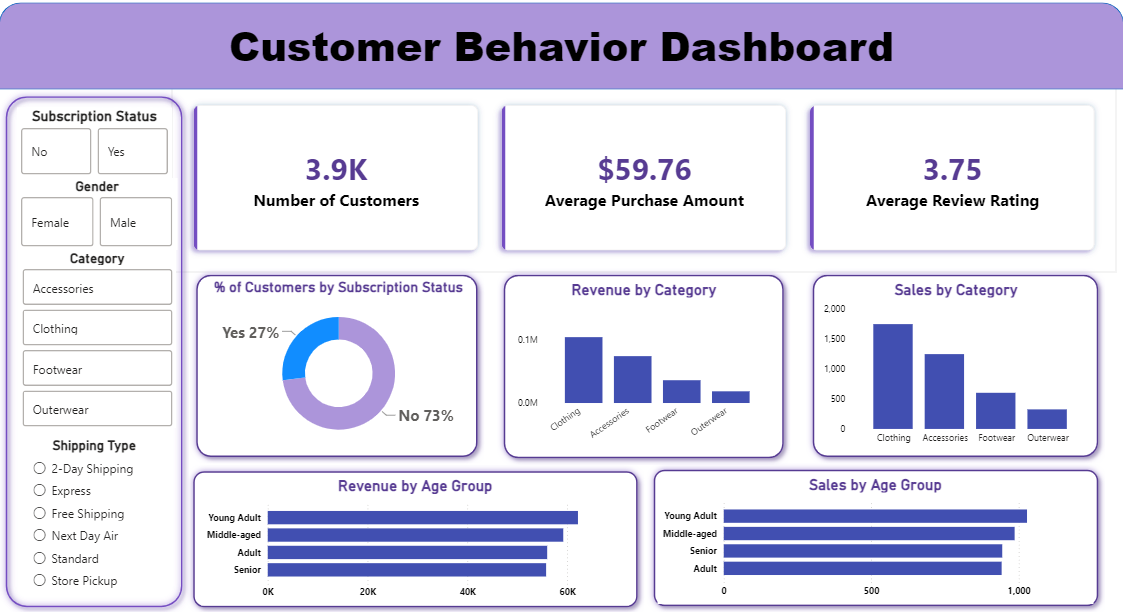

The page's visual inventory and layout, read from the dashboard file:
{"tool":"powerbi","page":{"name":"Page 1","canvas":[1500,820],"ordinal":0},"visuals":[{"type":"cardVisual","fields":{"Data":["public customer.Number of Customers","public customer.Average Purchase Amount","public customer.Average Review Rating"]},"box":[230.1,114.1,1259,251.8],"z":0},{"type":"shape","box":[0,5.4,1499.9,115.9],"z":1000},{"type":"textbox","box":[0,19.9,1499.9,101.4],"z":2000},{"type":"shape","box":[253.6,360.5,393.1,260.9],"z":3000},{"type":"donutChart","title":"% of Customers by Subscription Status","fields":{"Category":["public customer.subscription_status"],"Y":["CountNonNull(public customer.customer_id)"]},"box":[275.4,375,353.2,230.1],"z":4000},{"type":"shape","box":[664.8,360.5,391.3,262.7],"z":5000},{"type":"shape","box":[1076,360.5,398.5,260.9],"z":6000},{"type":"clusteredColumnChart","title":"Revenue by Category","fields":{"Y":["Sum(public customer.purchase_amount)"],"Category":["public customer.category"]},"box":[686.6,376.8,347.8,233.7],"z":7000},{"type":"clusteredColumnChart","title":"Sales by Category","fields":{"Y":["CountNonNull(public customer.customer_id)"],"Category":["public customer.category"]},"box":[1094.2,376.8,364.1,228.3],"z":8000},{"type":"shape","box":[0,121.4,253.6,699.3],"z":9000},{"type":"advancedSlicerVisual","title":"Subscription Status","fields":{"Values":["public customer.subscription_status"]},"box":[23.5,146.7,206.5,94.2],"z":10000},{"type":"advancedSlicerVisual","fields":{"Values":["public customer.gender"]},"box":[23.5,240.9,213.8,96],"z":11000},{"type":"advancedSlicerVisual","title":"Category","fields":{"Values":["public customer.category"]},"box":[25.4,336.9,210.1,237.3],"z":12000},{"type":"listSlicer","title":"Shipping Type","fields":{"Values":["public customer.shipping_type"]},"box":[39.9,586.9,173.9,211.9],"z":13000},{"type":"shape","box":[250,621.4,610.5,199.3],"z":13500},{"type":"clusteredBarChart","title":"Revenue by Age Group","fields":{"Y":["Sum(public customer.purchase_amount)"],"Category":["public customer.age_group"]},"box":[270.2,638.4,569.9,172.1],"z":14000},{"type":"shape","box":[864.1,619.9,610.6,199.8],"z":14001},{"type":"clusteredBarChart","title":"Sales by Age Group","fields":{"Y":["CountNonNull(public customer.customer_id)"],"Category":["public customer.age_group"]},"box":[877.1,636.5,581,172.1],"z":14002}]}

Visuals, with their boxes in screenshot pixels (x1, y1, x2, y2), scaled from the page's 1500x820 canvas onto the 1123x612 screenshot:
cardVisual - public customer.Number of Customers x public customer.Average Purchase Amount: crop(172, 85, 1115, 273)
shape: crop(0, 4, 1122, 91)
textbox: crop(0, 15, 1122, 91)
shape: crop(190, 269, 484, 464)
"% of Customers by Subscription Status" donutChart: crop(206, 280, 471, 452)
shape: crop(498, 269, 791, 465)
shape: crop(806, 269, 1104, 464)
"Revenue by Category" clusteredColumnChart: crop(514, 281, 774, 456)
"Sales by Category" clusteredColumnChart: crop(819, 281, 1092, 452)
shape: crop(0, 91, 190, 611)
"Subscription Status" advancedSlicerVisual: crop(18, 109, 172, 180)
advancedSlicerVisual - public customer.gender: crop(18, 180, 178, 251)
"Category" advancedSlicerVisual: crop(19, 251, 176, 429)
"Shipping Type" listSlicer: crop(30, 438, 160, 596)
shape: crop(187, 464, 644, 611)
"Revenue by Age Group" clusteredBarChart: crop(202, 476, 629, 605)
shape: crop(647, 463, 1104, 611)
"Sales by Age Group" clusteredBarChart: crop(657, 475, 1092, 603)
